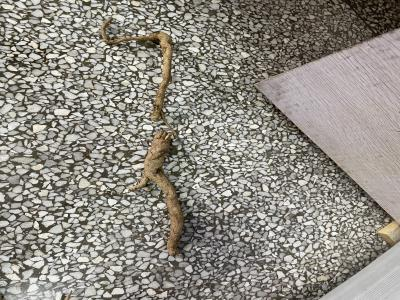Root: (101, 17, 184, 256)
